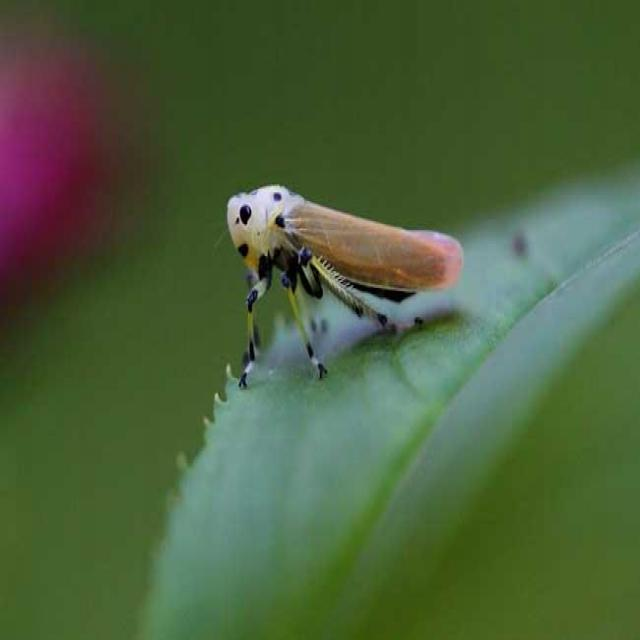Yechan: (212, 176, 477, 320)
